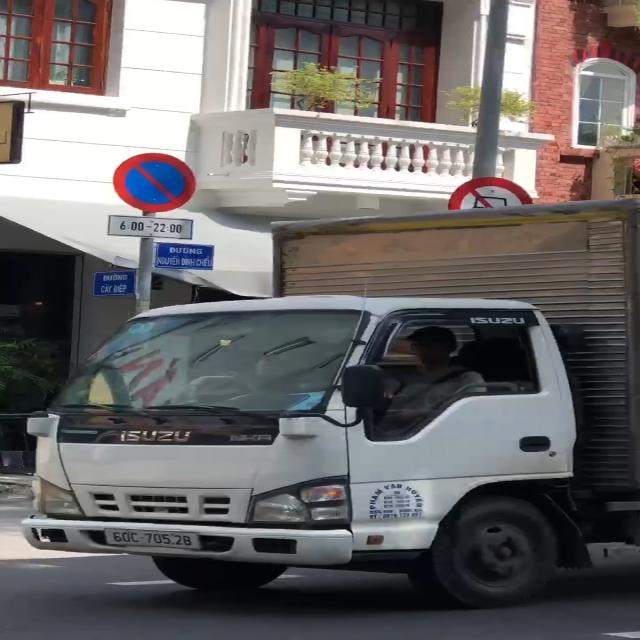Bien bao cam do xe: (113, 151, 201, 212)
